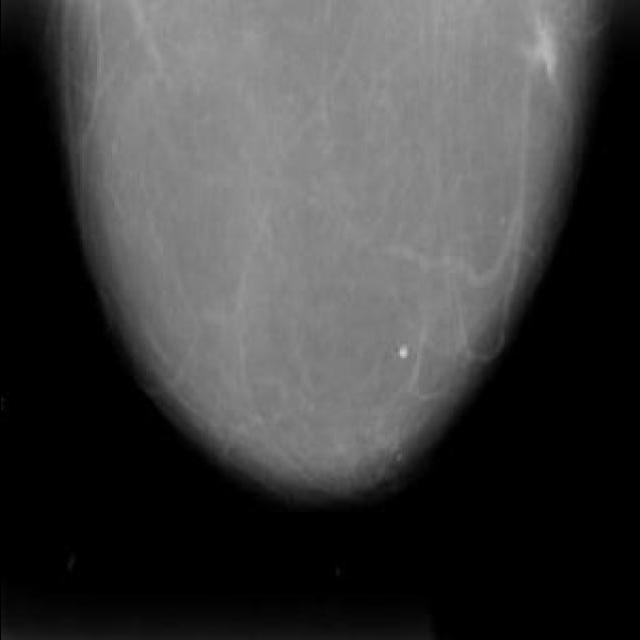tumor: (514, 19, 572, 96), (376, 332, 434, 372)
